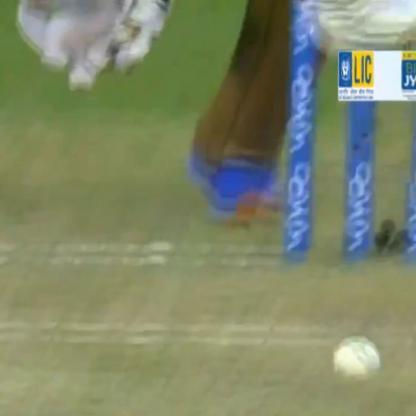ball: (326, 340, 386, 383)
